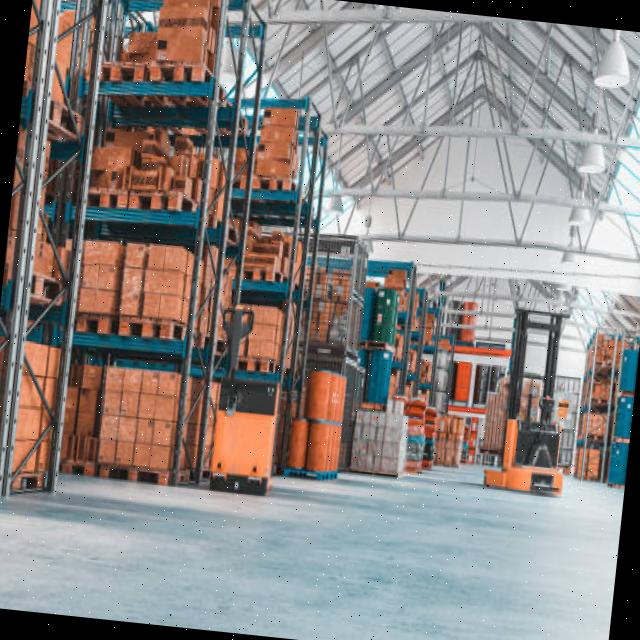Wooden-Pallets: (98, 455, 171, 498), (123, 180, 192, 225), (114, 302, 180, 343), (143, 55, 206, 89)
